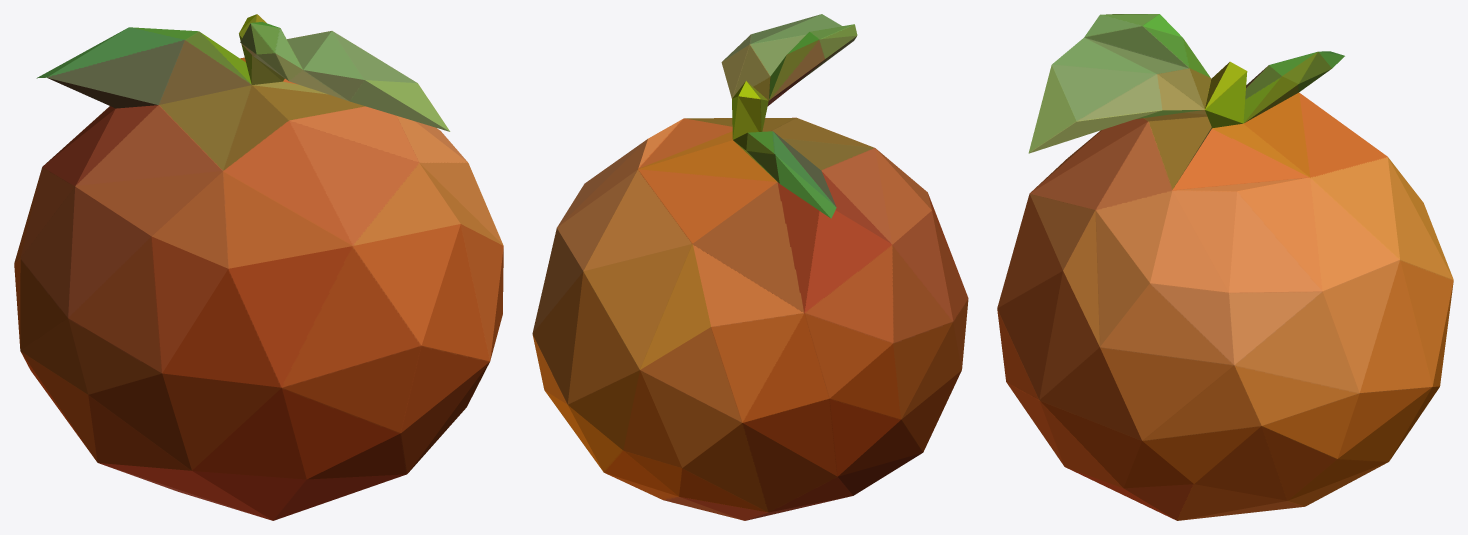
The model's file is mandarin_orange_0817065539_refine.fbx.
3 views of the same model, side by side, from view 1: azimuth 30°, elevation 25°; view 2: azimuth 150°, elevation 25°; view 3: azimuth 270°, elevation 25° (orthographic). The views are drawn at different scales.
Parts seen in each view (by area): view 1: Mesh_0; view 2: Mesh_0; view 3: Mesh_0.
Part boxes in pixels (bbox=[...]): Mesh_0: bbox=[14, 14, 503, 520]; Mesh_0: bbox=[532, 14, 968, 520]; Mesh_0: bbox=[997, 14, 1453, 520].
Size of the model in its own units: 148 by 165 by 150.
1 material, 1 textured.
